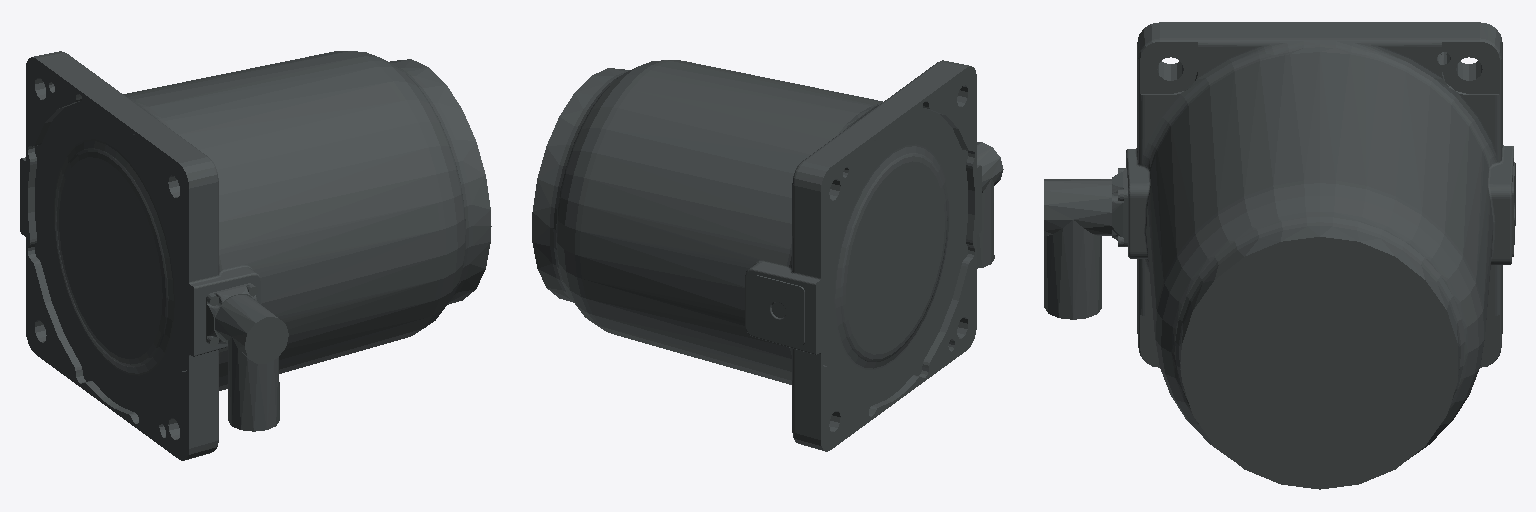
robot.urdf — abb_crb15000_5_95:
<?xml version="1.0" ?>
<!-- =================================================================================== -->
<!-- |    This document was autogenerated by xacro from urdf/crb15000_5_95.xacro       | -->
<!-- |    EDITING THIS FILE BY HAND IS NOT RECOMMENDED                                 | -->
<!-- =================================================================================== -->
<robot name="abb_crb15000_5_95">
  <!-- Conversion were obtained from http://www.e-paint.co.uk/Lab_values.asp
       unless otherwise stated. -->
  <!-- link list -->
  <link name="base_link">
    <collision>
      <geometry>
        <mesh filename="package://abb_crb15000_support/meshes/crb15000_5_95/collision/base_link.stl"/>
      </geometry>
    </collision>
    <visual>
      <geometry>
        <mesh filename="package://abb_crb15000_support/meshes/crb15000_5_95/visual/base_link.stl"/>
      </geometry>
      <material name="">
        <color rgba="0.3450980 0.3647059 0.3686275 1"/>
      </material>
    </visual>
  </link>
  <link name="link_1">
    <collision>
      <geometry>
        <mesh filename="package://abb_crb15000_support/meshes/crb15000_5_95/collision/link_1.stl"/>
      </geometry>
    </collision>
    <visual>
      <geometry>
        <mesh filename="package://abb_crb15000_support/meshes/crb15000_5_95/visual/link_1.stl"/>
      </geometry>
      <material name="">
        <color rgba="0.3450980 0.3647059 0.3686275 1"/>
      </material>
    </visual>
  </link>
  <link name="link_2">
    <collision>
      <geometry>
        <mesh filename="package://abb_crb15000_support/meshes/crb15000_5_95/collision/link_2.stl"/>
      </geometry>
    </collision>
    <visual>
      <geometry>
        <mesh filename="package://abb_crb15000_support/meshes/crb15000_5_95/visual/link_2.stl"/>
      </geometry>
      <material name="">
        <color rgba="0.3450980 0.3647059 0.3686275 1"/>
      </material>
    </visual>
  </link>
  <link name="link_3">
    <collision>
      <geometry>
        <mesh filename="package://abb_crb15000_support/meshes/crb15000_5_95/collision/link_3.stl"/>
      </geometry>
    </collision>
    <visual>
      <geometry>
        <mesh filename="package://abb_crb15000_support/meshes/crb15000_5_95/visual/link_3.stl"/>
      </geometry>
      <material name="">
        <color rgba="0.3450980 0.3647059 0.3686275 1"/>
      </material>
    </visual>
  </link>
  <link name="link_4">
    <collision>
      <geometry>
        <mesh filename="package://abb_crb15000_support/meshes/crb15000_5_95/collision/link_4.stl"/>
      </geometry>
    </collision>
    <visual>
      <geometry>
        <mesh filename="package://abb_crb15000_support/meshes/crb15000_5_95/visual/link_4.stl"/>
      </geometry>
      <material name="">
        <color rgba="0.7725490 0.7803922 0.7686275 1"/>
      </material>
    </visual>
  </link>
  <link name="link_5">
    <collision>
      <geometry>
        <mesh filename="package://abb_crb15000_support/meshes/crb15000_5_95/collision/link_5.stl"/>
      </geometry>
    </collision>
    <visual>
      <geometry>
        <mesh filename="package://abb_crb15000_support/meshes/crb15000_5_95/visual/link_5.stl"/>
      </geometry>
      <material name="">
        <color rgba="0.7725490 0.7803922 0.7686275 1"/>
      </material>
    </visual>
  </link>
  <link name="link_6">
    <collision>
      <geometry>
        <mesh filename="package://abb_crb15000_support/meshes/crb15000_5_95/collision/link_6.stl"/>
      </geometry>
    </collision>
    <visual>
      <geometry>
        <mesh filename="package://abb_crb15000_support/meshes/crb15000_5_95/visual/link_6.stl"/>
      </geometry>
      <material name="">
        <color rgba="0.8392157 0.8352941 0.7921569 1"/>
      </material>
    </visual>
  </link>
  <!-- end of link list -->
  <!-- joint list -->
  <joint name="joint_1" type="revolute">
    <origin rpy="0 0 0" xyz="0 0 0.265"/>
    <axis xyz="0 0 1"/>
    <parent link="base_link"/>
    <child link="link_1"/>
    <limit effort="0" lower="-3.141592653589793" upper="3.141592653589793" velocity="2.181661564992912"/>
  </joint>
  <joint name="joint_2" type="revolute">
    <origin rpy="0 0 0" xyz="0 0 0"/>
    <axis xyz="0 1 0"/>
    <parent link="link_1"/>
    <child link="link_2"/>
    <limit effort="0" lower="-3.141592653589793" upper="3.141592653589793" velocity="2.181661564992912"/>
  </joint>
  <joint name="joint_3" type="revolute">
    <origin rpy="0 0 0" xyz="0 0 0.444"/>
    <axis xyz="0 1 0"/>
    <parent link="link_2"/>
    <child link="link_3"/>
    <limit effort="0" lower="-3.9269908169872414" upper="1.4835298641951802" velocity="2.443460952792061"/>
  </joint>
  <joint name="joint_4" type="revolute">
    <origin rpy="0 0 0" xyz="0 0 0.110"/>
    <axis xyz="1 0 0"/>
    <parent link="link_3"/>
    <child link="link_4"/>
    <limit effort="0" lower="-3.141592653589793" upper="3.141592653589793" velocity="3.490658503988659"/>
  </joint>
  <joint name="joint_5" type="revolute">
    <origin rpy="0 0 0" xyz="0.470 0 0"/>
    <axis xyz="0 1 0"/>
    <parent link="link_4"/>
    <child link="link_5"/>
    <limit effort="0" lower="-3.141592653589793" upper="3.141592653589793" velocity="3.490658503988659"/>
  </joint>
  <joint name="joint_6" type="revolute">
    <origin rpy="0 0 0" xyz="0.101 0 0.080"/>
    <axis xyz="1 0 0"/>
    <parent link="link_5"/>
    <child link="link_6"/>
    <limit effort="0" lower="-3.141592653589793" upper="3.141592653589793" velocity="3.490658503988659"/>
  </joint>
  <!-- end of joint list -->
  <!-- ROS-Industrial 'base' frame: base_link to ABB World Coordinates transform -->
  <link name="base"/>
  <joint name="base_link-base" type="fixed">
    <origin rpy="0 0 0" xyz="0 0 0"/>
    <parent link="base_link"/>
    <child link="base"/>
  </joint>
  <!-- ROS-Industrial 'flange' frame: attachment point for EEF models -->
  <link name="flange"/>
  <joint name="joint_6-flange" type="fixed">
    <origin rpy="0 0 0" xyz="0 0 0"/>
    <parent link="link_6"/>
    <child link="flange"/>
  </joint>
  <!-- ROS-Industrial 'tool0' frame: all-zeros tool frame -->
  <link name="tool0"/>
  <joint name="flange-tool0" type="fixed">
    <origin rpy="0 1.5707963267948966 0" xyz="0 0 0"/>
    <parent link="flange"/>
    <child link="tool0"/>
  </joint>
</robot>

--- What the picture shows (computed from the rendered views, not written in the file) ---
3 views of the same robot in one strip: view 1: azimuth 30°, elevation 25°; view 2: azimuth 150°, elevation 25°; view 3: azimuth 270°, elevation 25° (orthographic).
Model abb_crb15000_5_95 with 10 links and 9 joints (6 revolute, 3 fixed), rooted at base_link, posed every joint at zero.
Links seen in each view (by area): view 1: base_link; view 2: base_link; view 3: base_link.
Boxes of the visible links, box(x1,y1,x2,y2) form: base_link: box(20, 51, 491, 460); base_link: box(532, 60, 1003, 451); base_link: box(1044, 22, 1515, 489).
Size in the robot's own frame: 0.1875 by 0.2129 by 0.165 metres.
1 mesh visuals loaded from 7 distinct referenced files (1 ASCII STL); not drawn: 6 (reference not matched to a file when rendering).